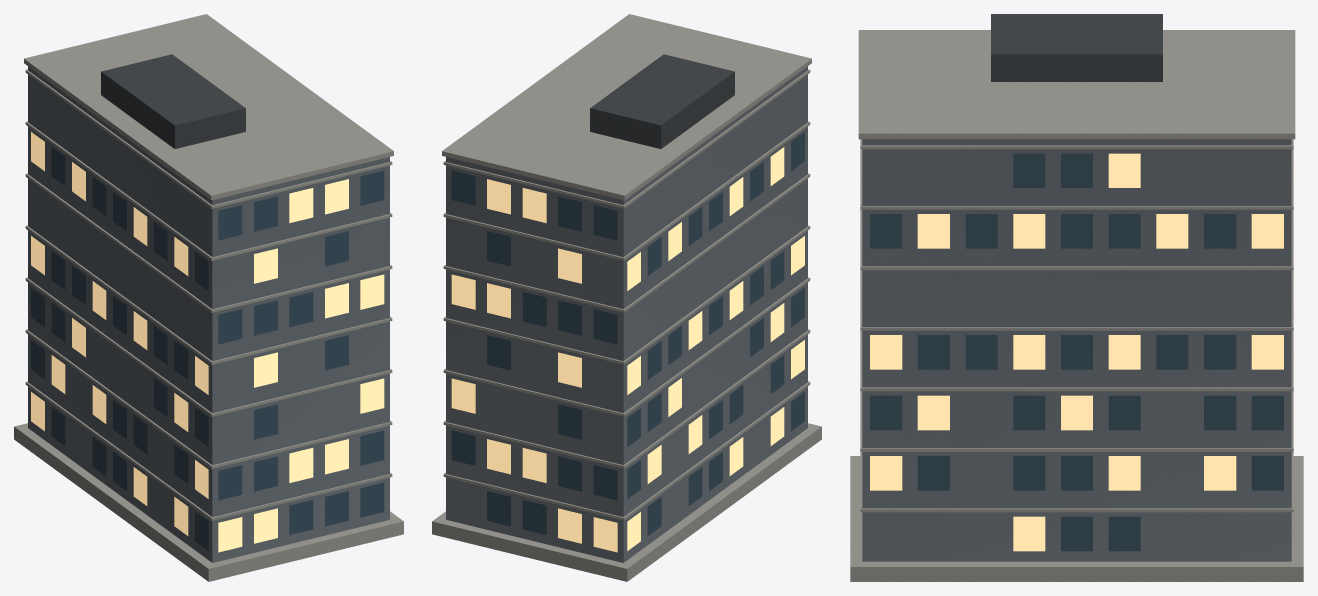
File: marina-office_mobile.glb
3 renders of one model, left to right at view 1: azimuth 30°, elevation 25°; view 2: azimuth 150°, elevation 25°; view 3: azimuth 270°, elevation 25°, orthographic. The views are drawn at different scales.
Visible parts, largest first — view 1: facade-mineral, concrete, glazing, window-emissive-mask, dark-steel; view 2: facade-mineral, concrete, glazing, window-emissive-mask, dark-steel; view 3: facade-mineral, concrete, glazing, window-emissive-mask, dark-steel.
Boxes of the visible parts, <box> form: facade-mineral: <box>28,66,389,562</box>; concrete: <box>14,14,403,581</box>; glazing: <box>31,147,384,550</box>; window-emissive-mask: <box>31,132,384,552</box>; dark-steel: <box>101,54,245,148</box>; facade-mineral: <box>446,66,807,562</box>; concrete: <box>432,14,821,581</box>; glazing: <box>451,132,804,535</box>; window-emissive-mask: <box>451,147,804,552</box>; dark-steel: <box>590,54,734,148</box>; facade-mineral: <box>862,139,1291,561</box>; concrete: <box>850,30,1303,581</box>; glazing: <box>870,153,1283,551</box>; window-emissive-mask: <box>870,153,1283,551</box>; dark-steel: <box>991,14,1162,81</box>.
Bounding box in the file's own units: 11 × 21.85 × 19.
Materials: 5 (3 with a texture image).
